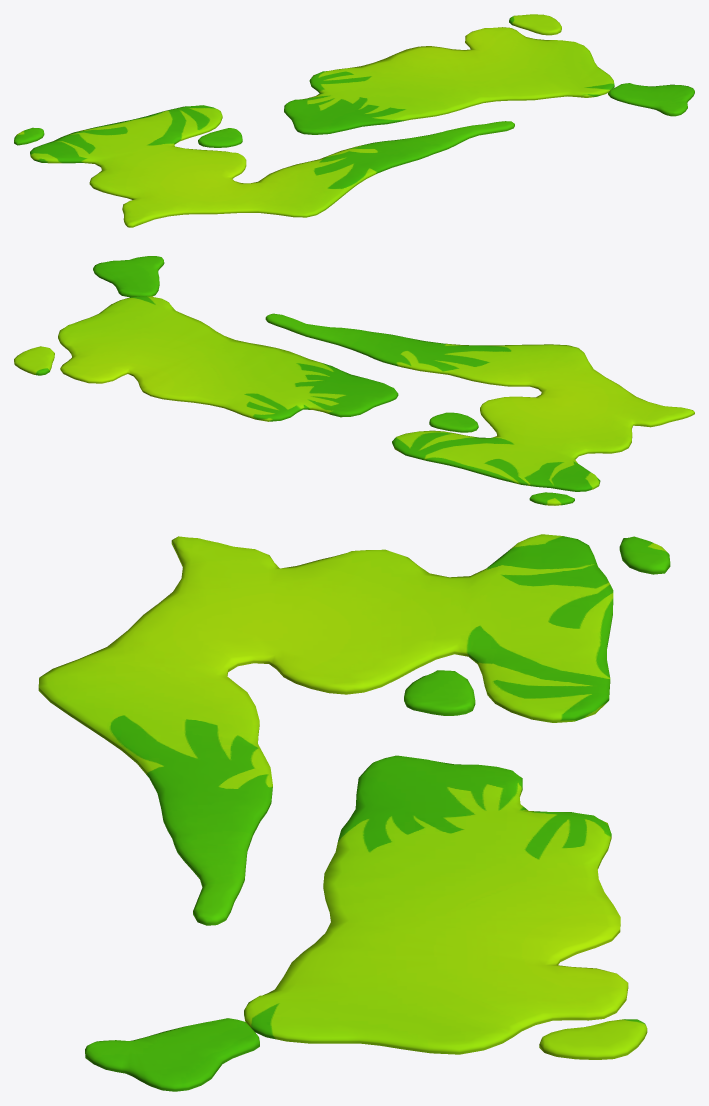
File: grassGround (1).fbx
3 renders of one model, top to bottom at view 1: azimuth 30°, elevation 25°; view 2: azimuth 150°, elevation 25°; view 3: azimuth 270°, elevation 25°, orthographic. The views are drawn at different scales.
Parts seen in each view (by area): view 1: grassGround__1_; view 2: grassGround__1_; view 3: grassGround__1_.
Boxes of the visible parts, x1,y1,x2,y2 form: grassGround__1_: [14, 14, 694, 227]; grassGround__1_: [14, 256, 694, 505]; grassGround__1_: [38, 534, 670, 1091].
Bounding box in the file's own units: 5828 × 37.1 × 2814.
1 material, 1 textured.
